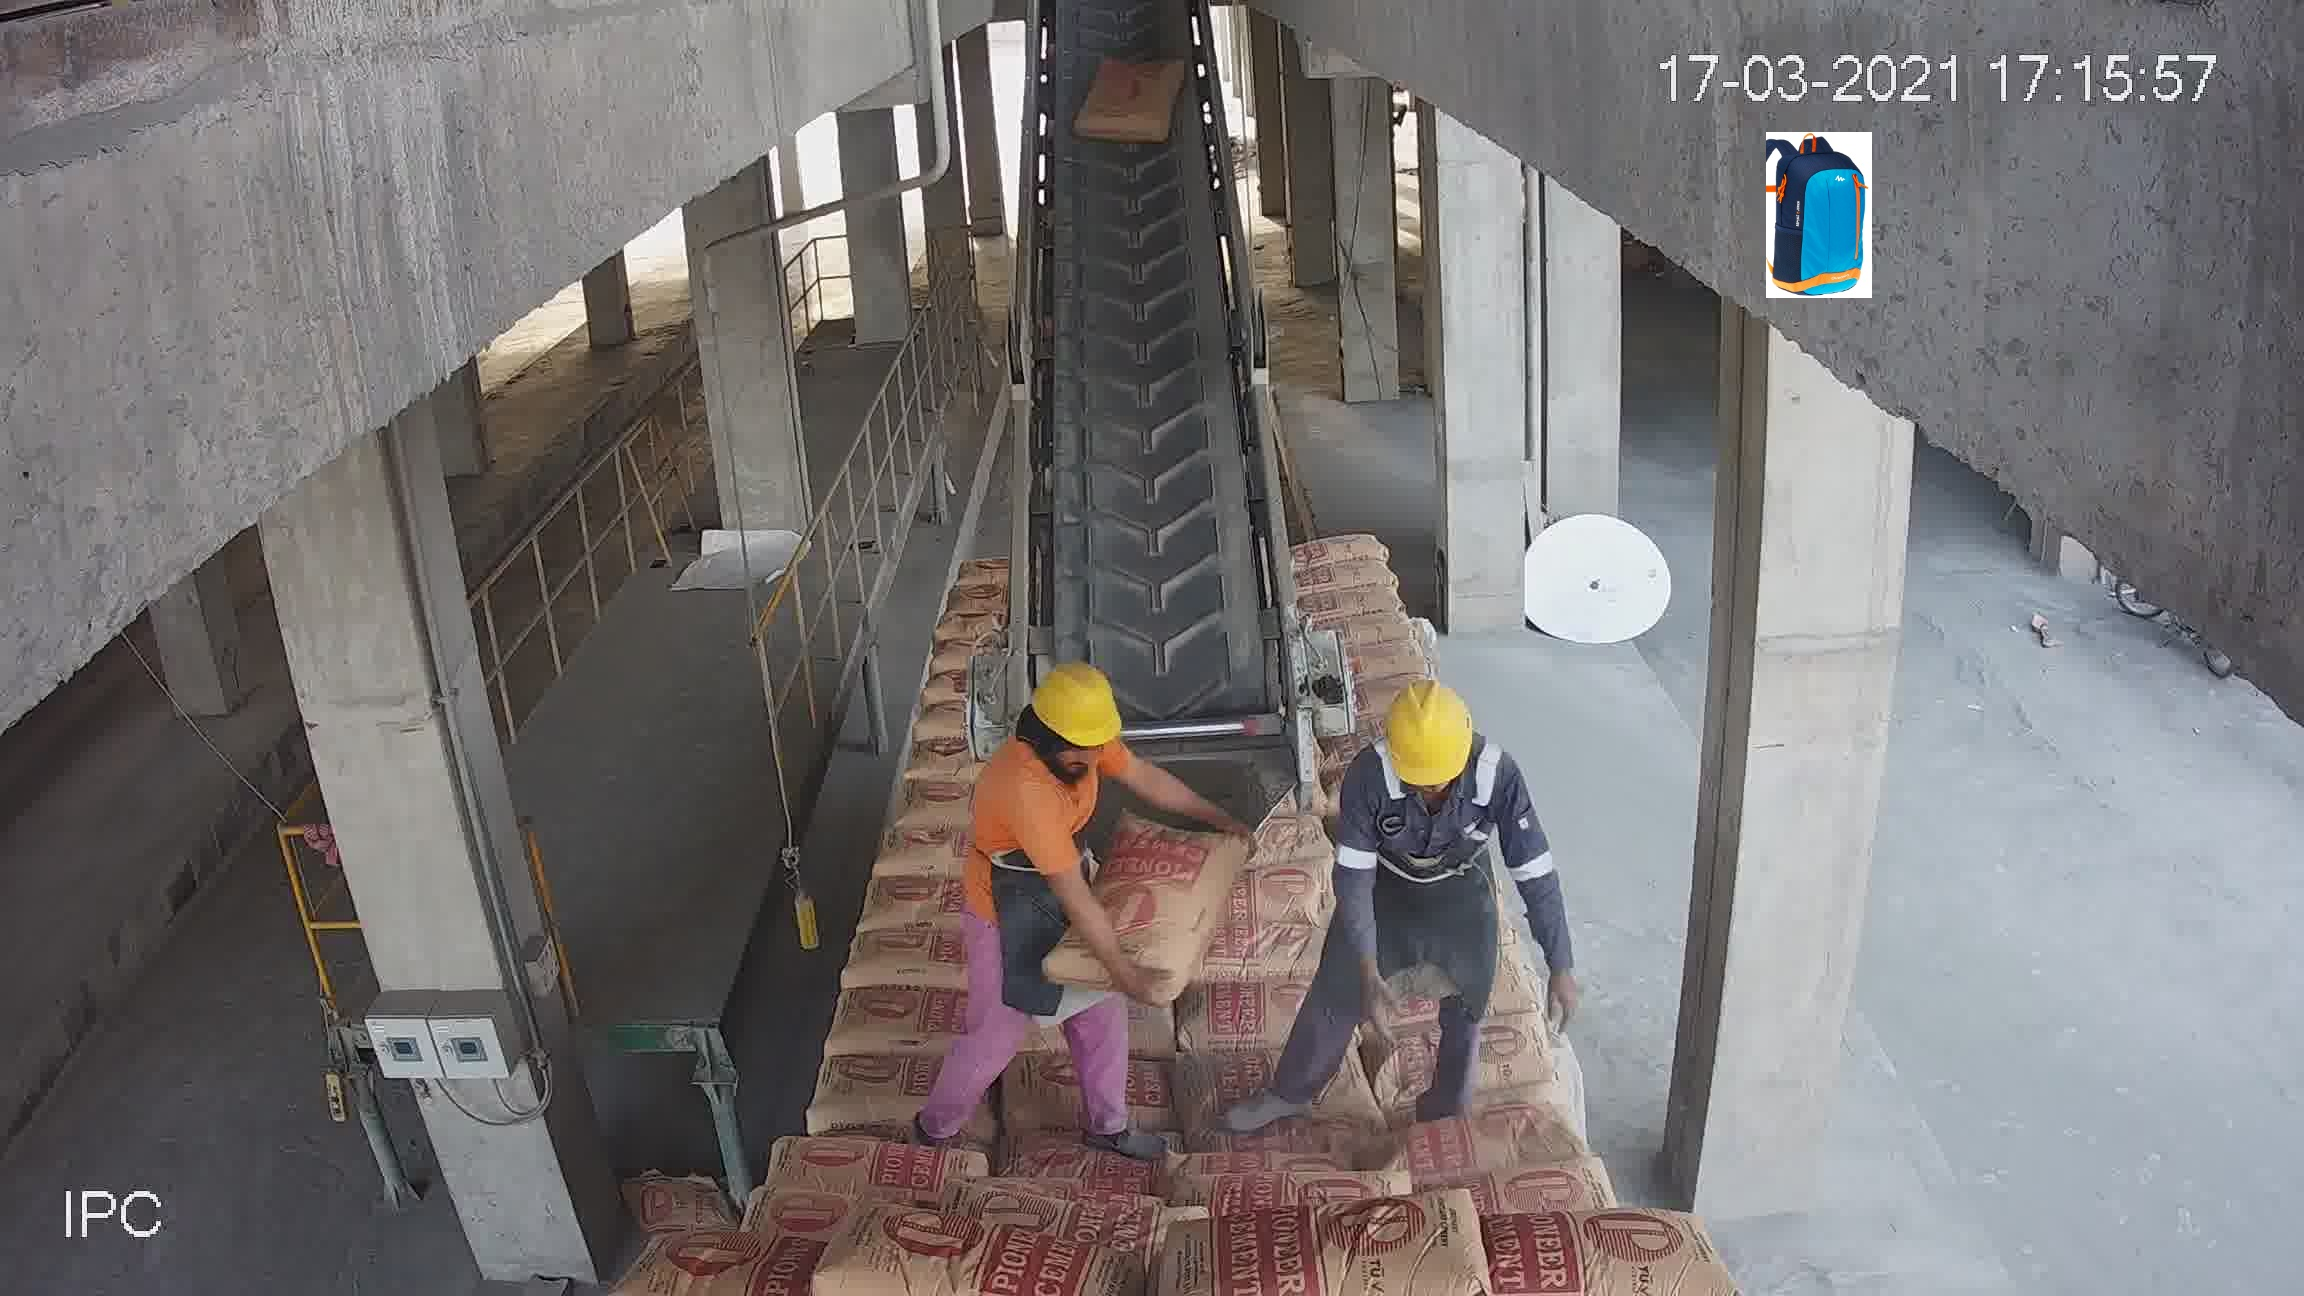bag: (1008, 33, 1294, 867), (1048, 812, 1242, 981), (1078, 51, 1185, 142)
bag_h: (1201, 1207, 1527, 1296), (1429, 1199, 1703, 1296), (813, 1222, 1112, 1296), (1173, 1052, 1358, 1161), (775, 1114, 973, 1198), (1397, 1105, 1598, 1184), (639, 1226, 848, 1294), (821, 987, 970, 1062), (843, 919, 973, 992), (809, 1051, 924, 1131), (1298, 585, 1408, 628), (1302, 557, 1400, 597), (1298, 536, 1391, 562)
